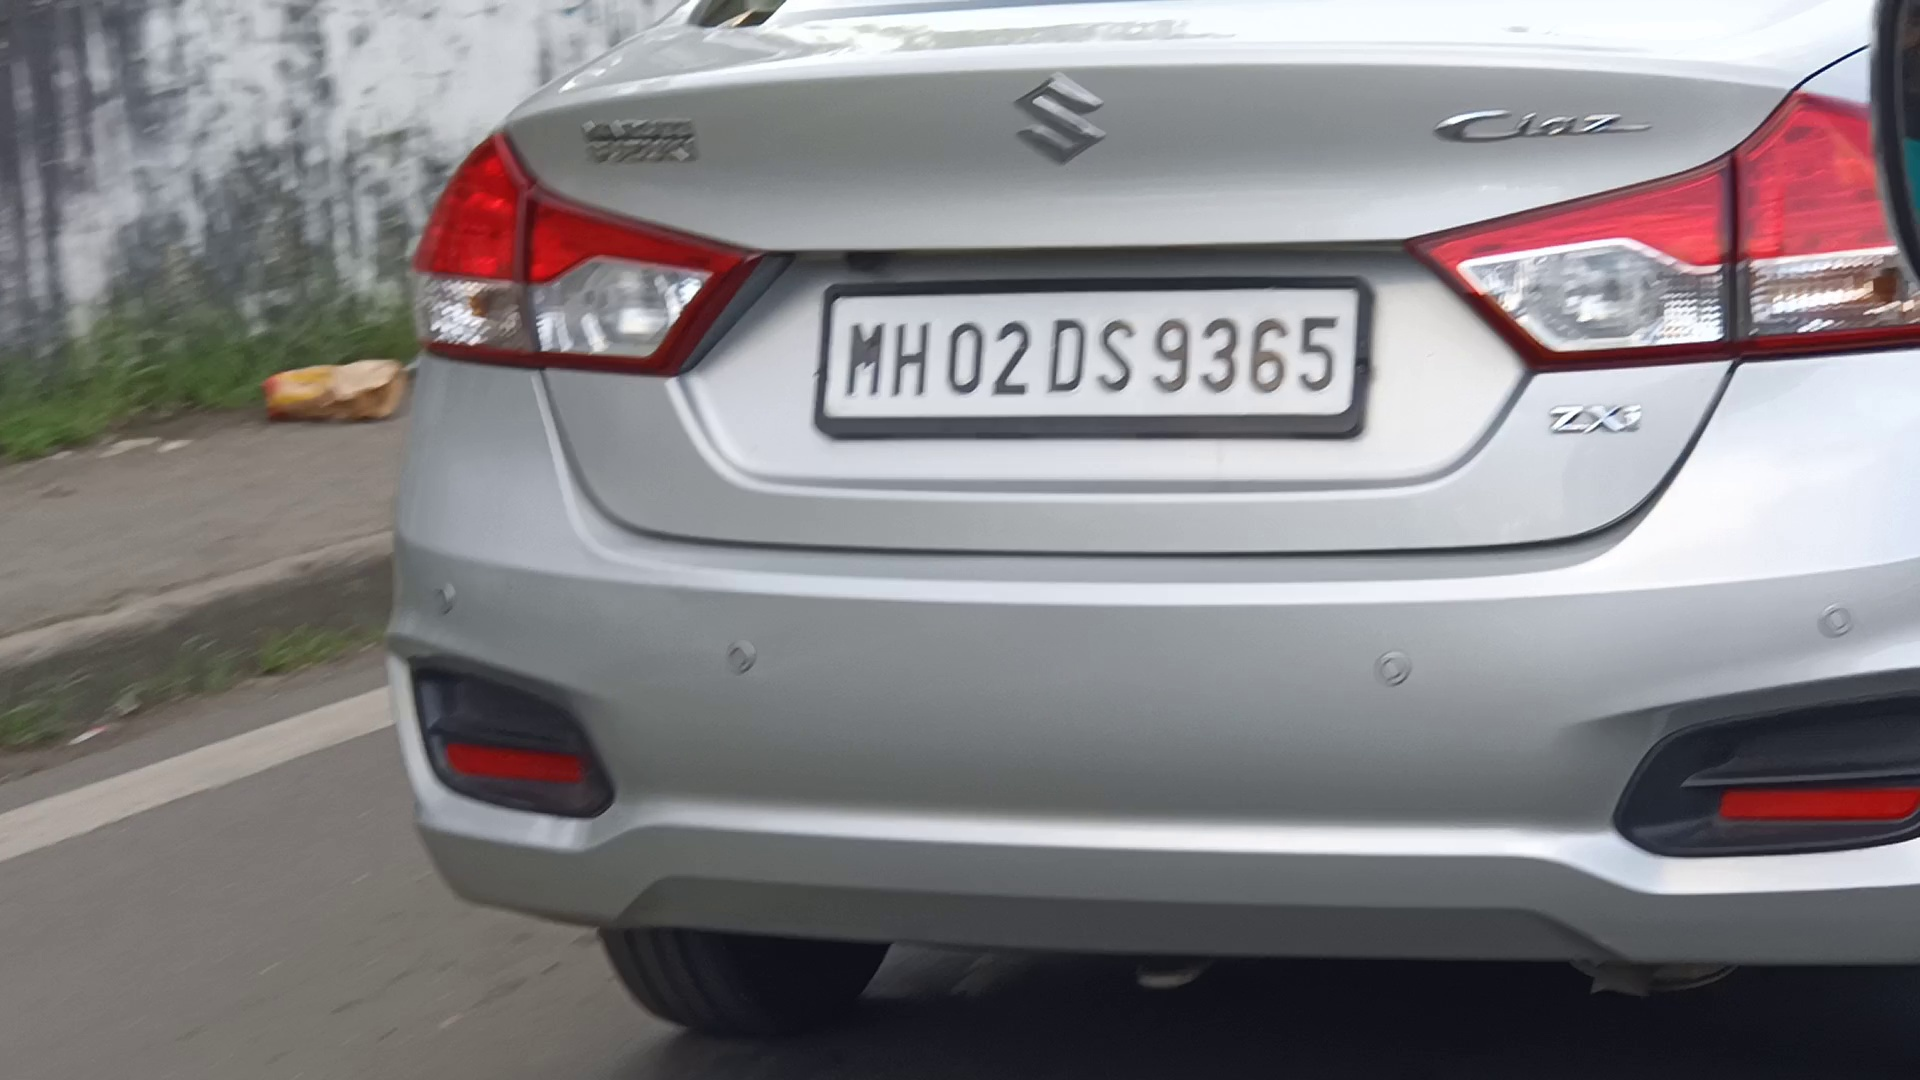MH02DS9365: (821, 282, 1357, 417)
